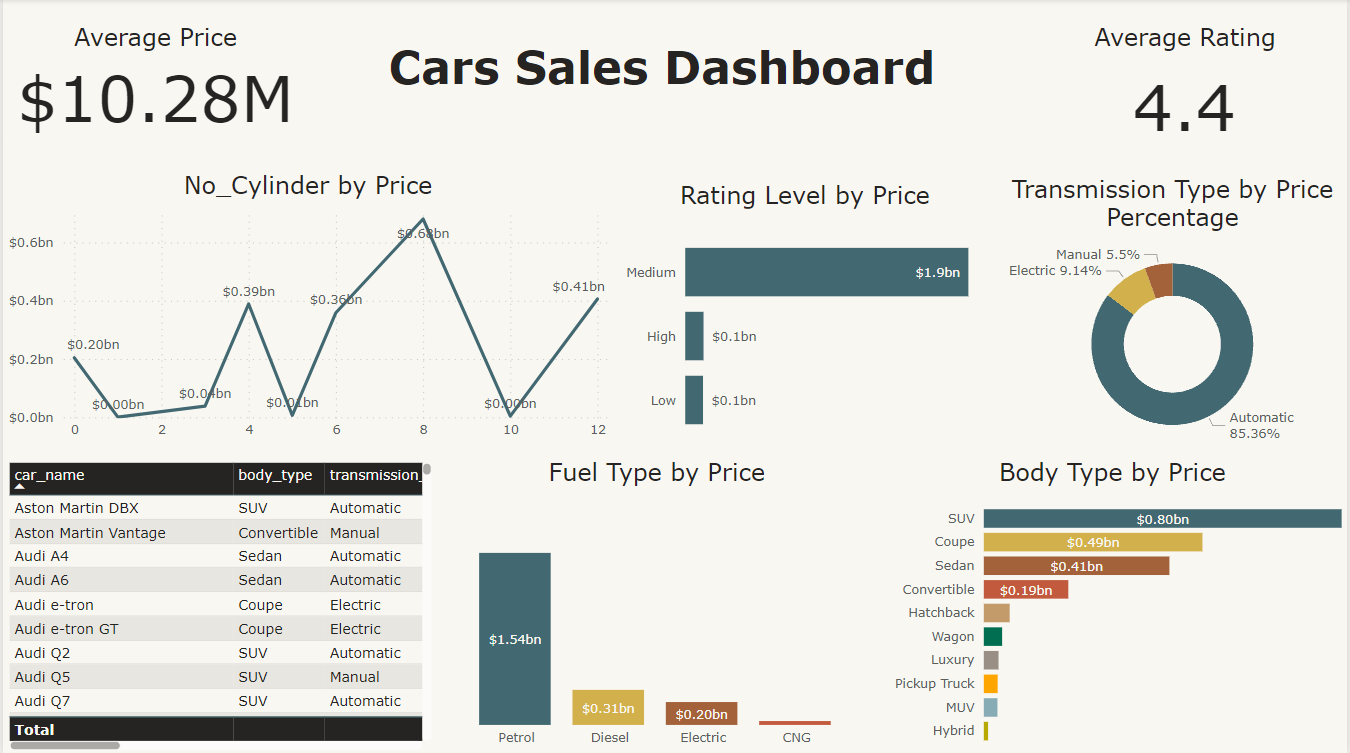

Layout of this report page (visuals, bound fields, positions):
{"tool":"powerbi","page":{"name":"Page 1","canvas":[1280,720],"ordinal":0},"visuals":[{"type":"card","title":"Average Price","fields":{"Values":["Avg(CARS_1 (2).mean_price)"]},"box":[0,22.6,290.4,110.7],"z":0},{"type":"card","title":"Average Rating","fields":{"Values":["Avg(CARS_1 (2).rating)"]},"box":[987.8,22.6,274.9,127.3],"z":1000},{"type":"tableEx","fields":{"Values":["CARS_1 (2).car_name","CARS_1 (2).body_type","CARS_1 (2).transmission_type","CARS_1 (2).fuel_type","CARS_1 (2).rating_level","Sum(CARS_1 (2).fuel_tank_capacity)","Sum(CARS_1 (2).engine_displacement)","Sum(CARS_1 (2).no_cylinder)","Sum(CARS_1 (2).seating_capacity)","Sum(CARS_1 (2).mean_price)"]},"box":[0,436.8,413,283.2],"z":2000},{"type":"columnChart","title":"Fuel Type by Price","fields":{"Category":["CARS_1 (2).fuel_type"],"Y":["Sum(CARS_1 (2).mean_price)"],"Series":["CARS_1 (2).fuel_type"]},"box":[413,436.8,418.9,283.2],"z":3000},{"type":"donutChart","title":"Transmission Type by Price Percentage","fields":{"Category":["CARS_1 (2).transmission_type"],"Y":["Sum(CARS_1 (2).mean_price)"]},"box":[946.1,166.6,334.4,270.1],"z":4000},{"type":"barChart","title":"Body Type by Price","fields":{"Category":["CARS_1 (2).body_type"],"Y":["Sum(CARS_1 (2).mean_price)"],"Series":["CARS_1 (2).body_type"]},"box":[831.9,436.8,448.7,283.2],"z":5000},{"type":"barChart","title":"Rating Level by Price","fields":{"Category":["CARS_1 (2).rating_level"],"Y":["Sum(CARS_1 (2).mean_price)"]},"box":[580.8,172.6,365.4,264.2],"z":6000},{"type":"textbox","box":[308.2,33.3,637.9,70.2],"z":7000},{"type":"lineChart","title":"No_Cylinder by Price","fields":{"Category":["CARS_1 (2).no_cylinder"],"Y":["Sum(CARS_1 (2).mean_price)"]},"box":[0,163,580.8,264.2],"z":8000}]}

Visuals, with their boxes in screenshot pixels (x1, y1, x2, y2), scaled from the page's 1280x720 canvas onto the 1350x753 screenshot:
"Average Price" card: (x1=0, y1=24, x2=306, y2=139)
"Average Rating" card: (x1=1042, y1=24, x2=1332, y2=157)
tableEx - CARS_1 (2).car_name x CARS_1 (2).body_type: (x1=0, y1=457, x2=436, y2=752)
"Fuel Type by Price" columnChart: (x1=436, y1=457, x2=877, y2=752)
"Transmission Type by Price Percentage" donutChart: (x1=998, y1=174, x2=1349, y2=457)
"Body Type by Price" barChart: (x1=877, y1=457, x2=1349, y2=752)
"Rating Level by Price" barChart: (x1=613, y1=181, x2=998, y2=457)
textbox: (x1=325, y1=35, x2=998, y2=108)
"No_Cylinder by Price" lineChart: (x1=0, y1=170, x2=613, y2=447)
